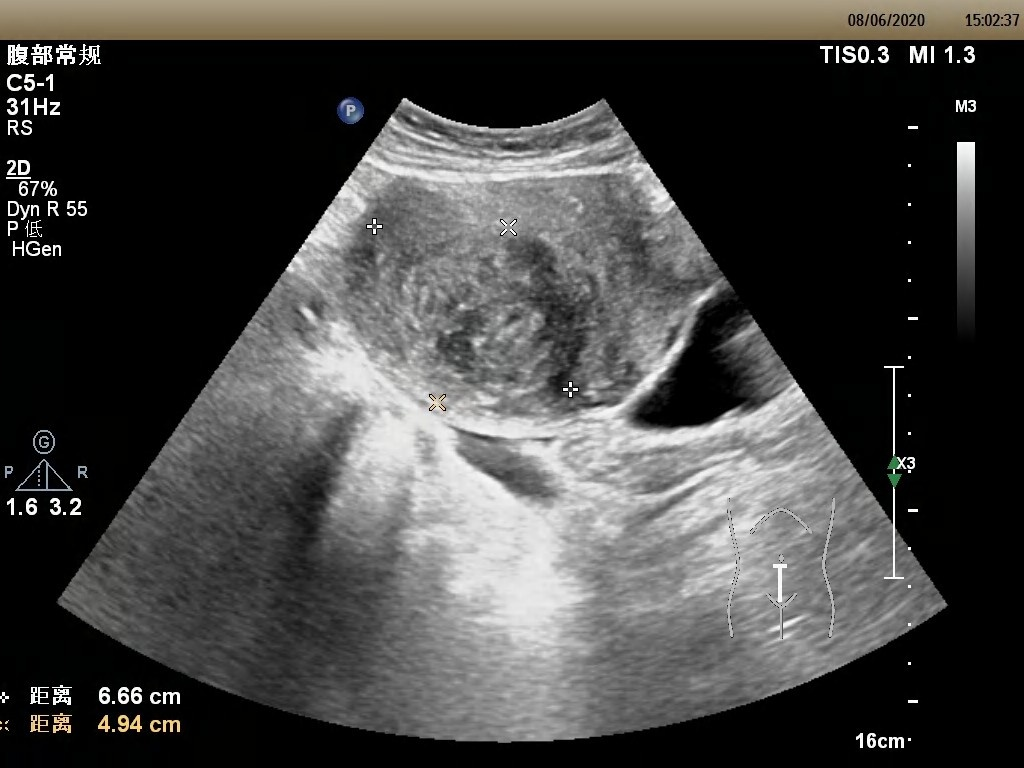肌瘤: (407, 236, 571, 390)
